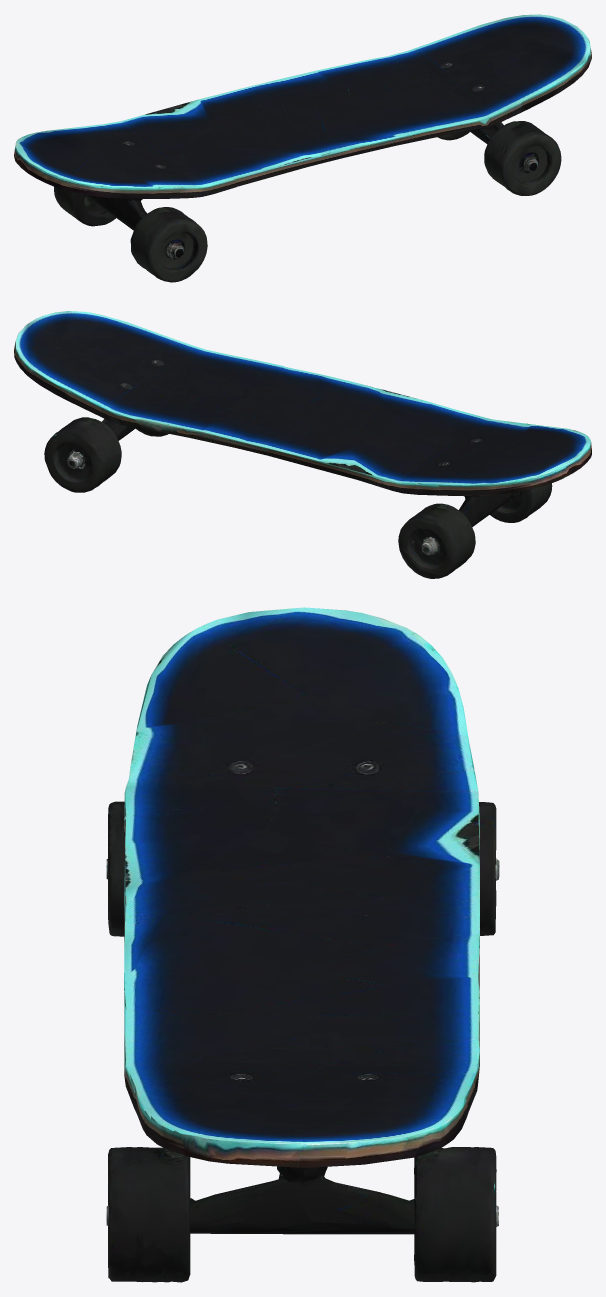
File: neon.glb
3 views of the same model, one above another, from view 1: azimuth 30°, elevation 25°; view 2: azimuth 150°, elevation 25°; view 3: azimuth 270°, elevation 25° (orthographic). The views are drawn at different scales.
Visible parts, largest first — view 1: body; view 2: body; view 3: body, wheel_4.
Boxes of the visible parts, bbox=[...] form: body: bbox=[14, 14, 591, 282]; body: bbox=[14, 311, 591, 578]; body: bbox=[106, 607, 499, 1282]; wheel_4: bbox=[267, 1209, 413, 1233].
Size of the model in its own units: 1.9 by 0.3667 by 0.5834.
1 material, 1 textured.
